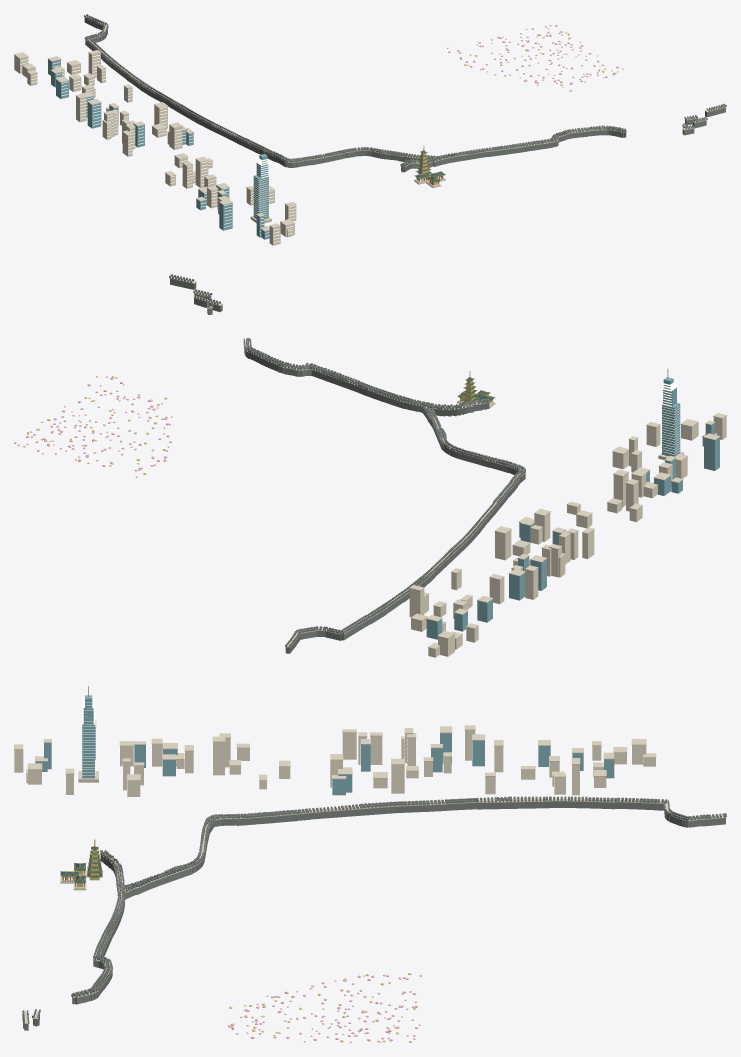
Rendered from jinling-setting.glb.
The picture shows the model from 3 angles, top to bottom: view 1: azimuth 30°, elevation 25°; view 2: azimuth 150°, elevation 25°; view 3: azimuth 270°, elevation 25°; orthographic projection. The views are drawn at different scales.
Size of the model in its own units: 48.45 by 7.12 by 48.34.
